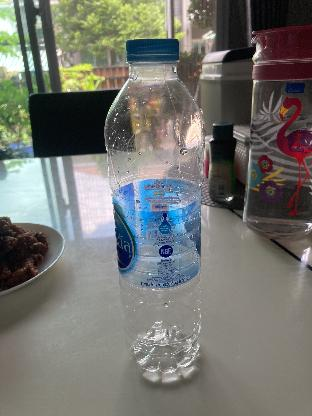Plastic Bottle: (100, 34, 208, 376)
